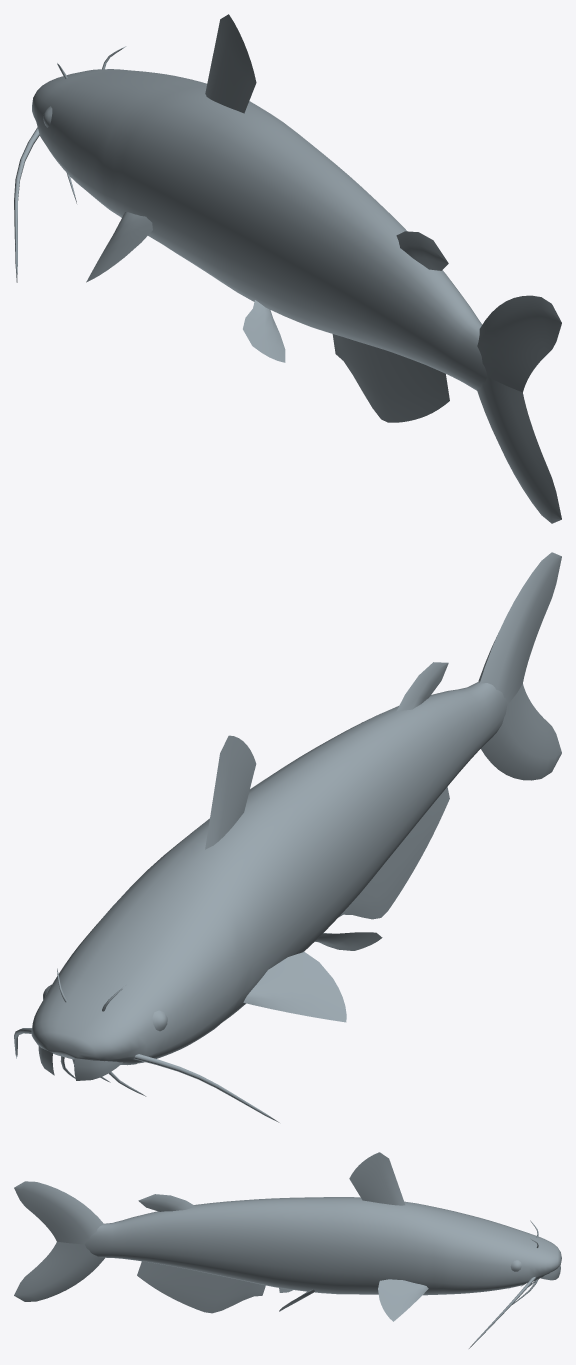
File: channel_catfish_lo.glb
The picture shows the model from 3 angles, top to bottom: view 1: azimuth 30°, elevation 25°; view 2: azimuth 150°, elevation 25°; view 3: azimuth 270°, elevation 25°; orthographic projection. The views are drawn at different scales.
Parts seen in each view (by area): view 1: channel_catfish_lo; view 2: channel_catfish_lo; view 3: channel_catfish_lo.
Boxes of the visible parts, bbox=[...] form: channel_catfish_lo: bbox=[14, 14, 561, 523]; channel_catfish_lo: bbox=[14, 552, 561, 1122]; channel_catfish_lo: bbox=[14, 1152, 561, 1348].
Size of the model in its own units: 0.1834 by 0.1973 by 0.6.
